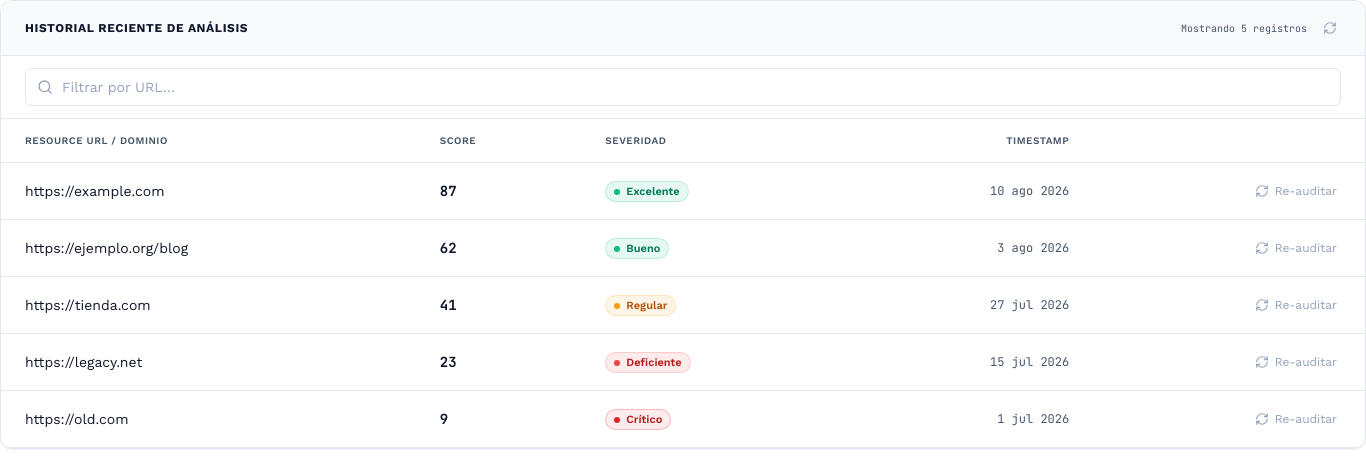
Test case: AuditHistoryTable search (DSH-9) › clearing the input restores the full list
Type "tienda" into the search field labelled "Filtrar por URL".
click(683, 87); type("tienda")  # box left=25, top=68, right=1341, bottom=106
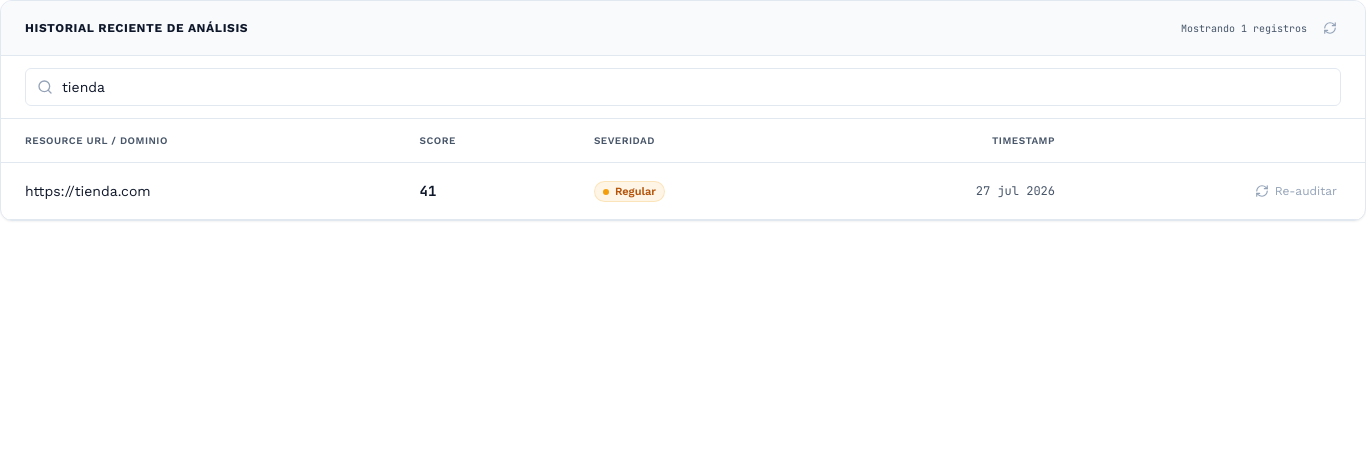
expect the link "https://tienda.com" is shown: met, box left=25, top=181, right=151, bottom=201
expect the link "https://example.com" is gone: met
Clear the search field named "Filtrar por URL" at (683, 87), box left=25, top=68, right=1341, bottom=106
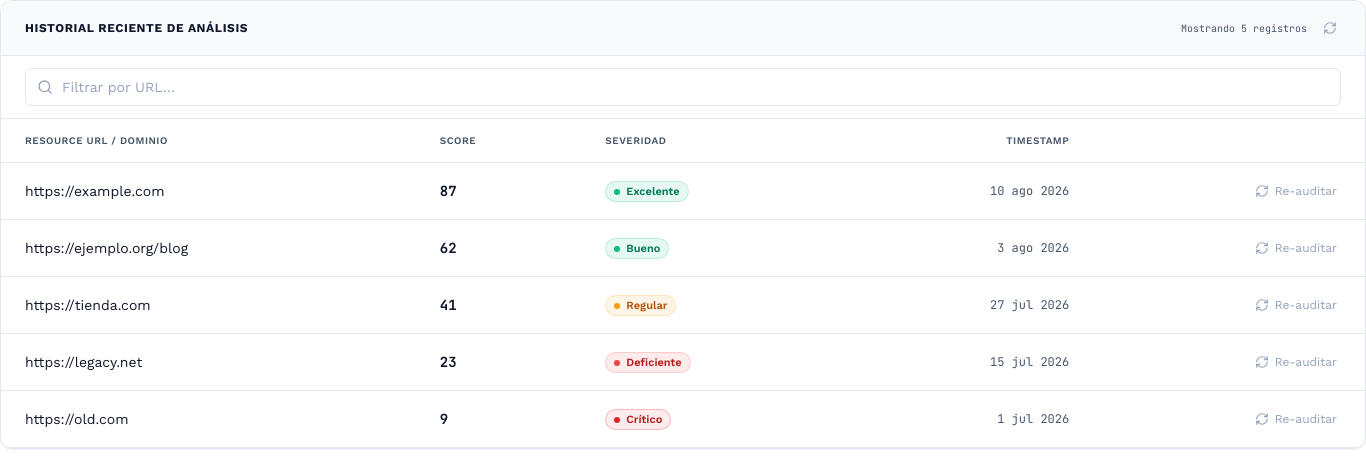
expect the number of rows is 6: met, box left=1, top=119, right=1365, bottom=162; left=1, top=162, right=1365, bottom=220; left=1, top=220, right=1365, bottom=276; left=1, top=276, right=1365, bottom=334; left=1, top=334, right=1365, bottom=390; left=1, top=390, right=1365, bottom=448
expect the link "https://example.com" is shown: met, box left=25, top=181, right=165, bottom=201
